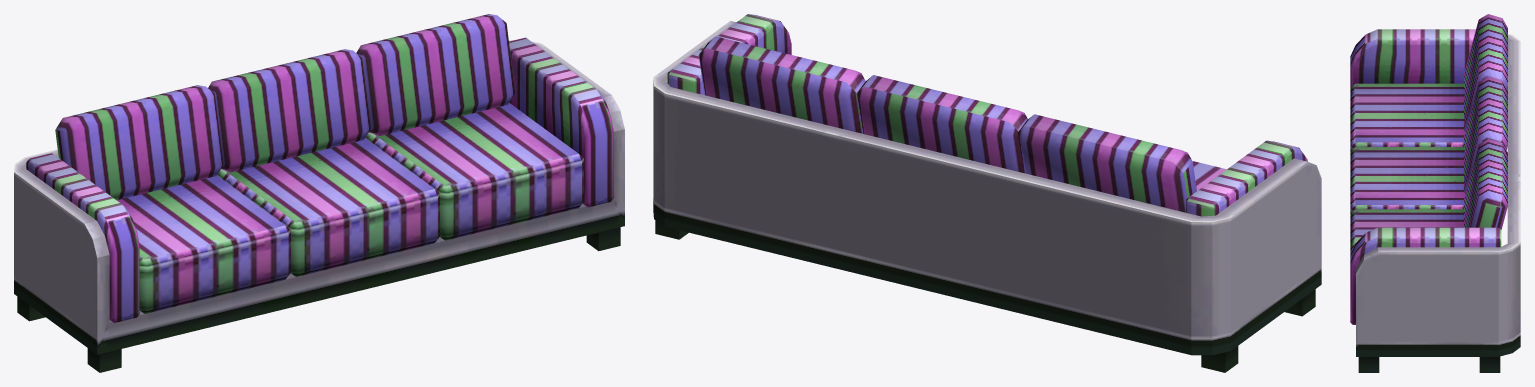
Rendered from furni_0200611_02.FBX.
3 renders of one model, left to right at view 1: azimuth 30°, elevation 25°; view 2: azimuth 150°, elevation 25°; view 3: azimuth 270°, elevation 25°, orthographic. The views are drawn at different scales.
Parts seen in each view (by area): view 1: furni_0200611_02; view 2: furni_0200611_02; view 3: furni_0200611_02.
Boxes of the visible parts, x1=… form: furni_0200611_02: x1=14, y1=14, x2=624, y2=372; furni_0200611_02: x1=653, y1=14, x2=1321, y2=372; furni_0200611_02: x1=1350, y1=14, x2=1520, y2=372.
Bounding box in the file's own units: 238 × 80.62 × 77.55.
1 material, 1 textured.
